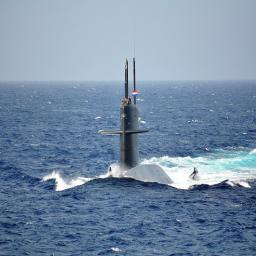submarine: (100, 57, 203, 189)
